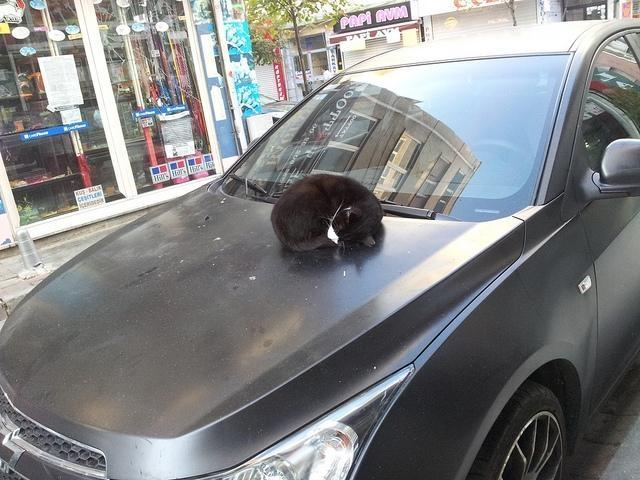car: (2, 20, 639, 474), (259, 92, 298, 123)
